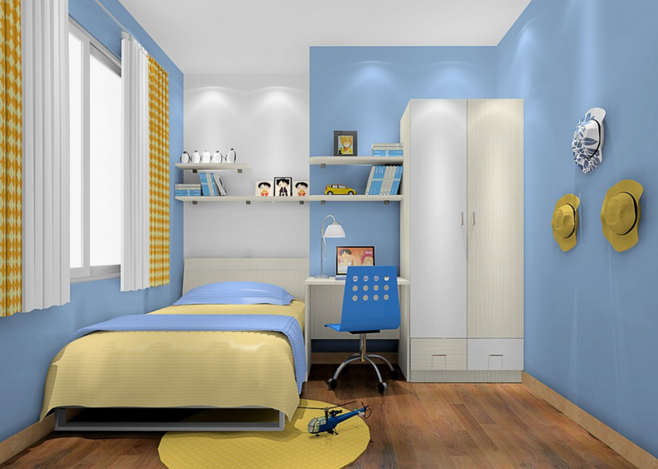床: (51, 304, 306, 433)
枕头: (179, 281, 293, 308)
灯: (316, 216, 346, 280)
